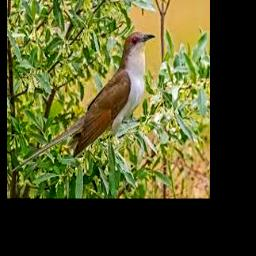Cuckoo: (13, 32, 156, 171)
